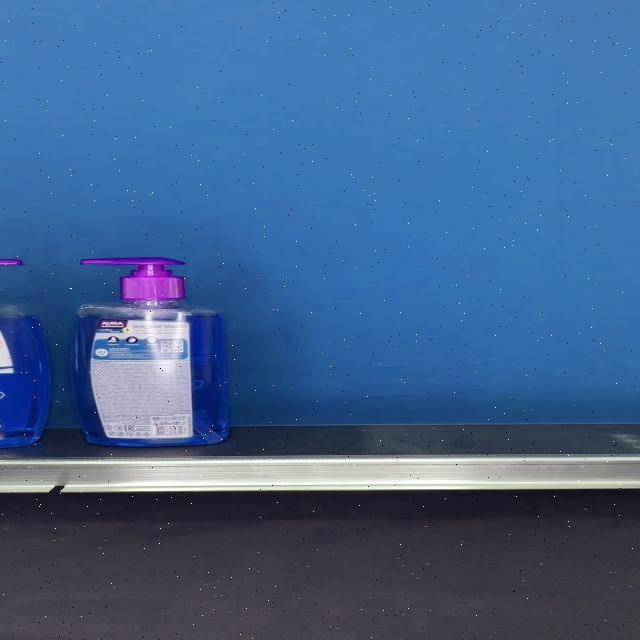Bottle: (70, 257, 229, 446)
Cap: (80, 258, 184, 300)
